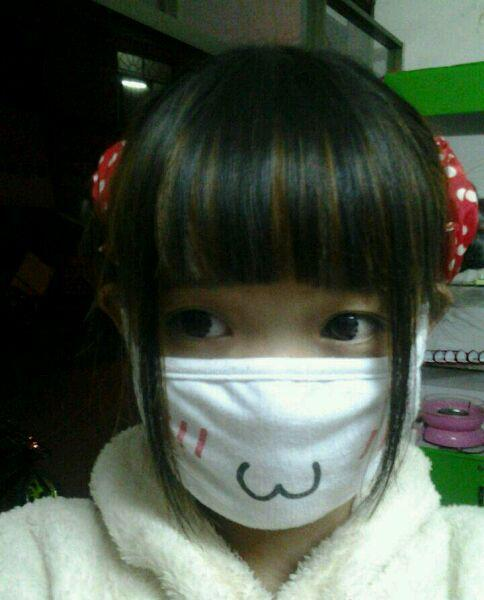OK: (128, 239, 417, 528)
